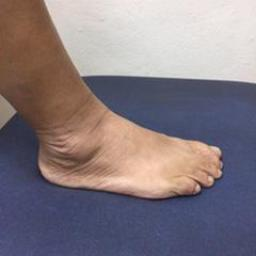Lateral View -Right Foot-: (22, 99, 230, 211)
